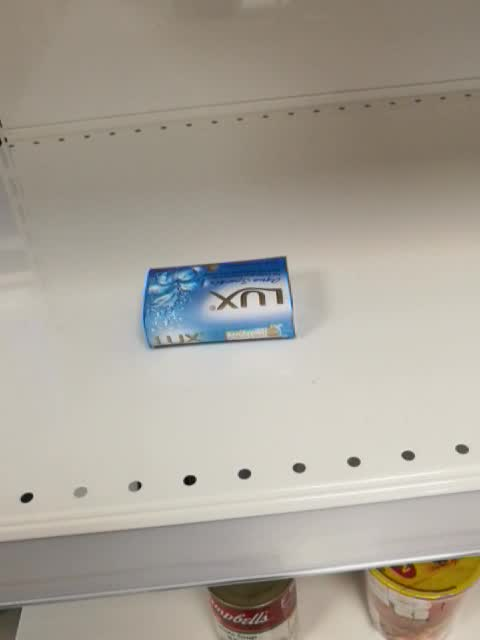soap: (139, 252, 297, 349)
